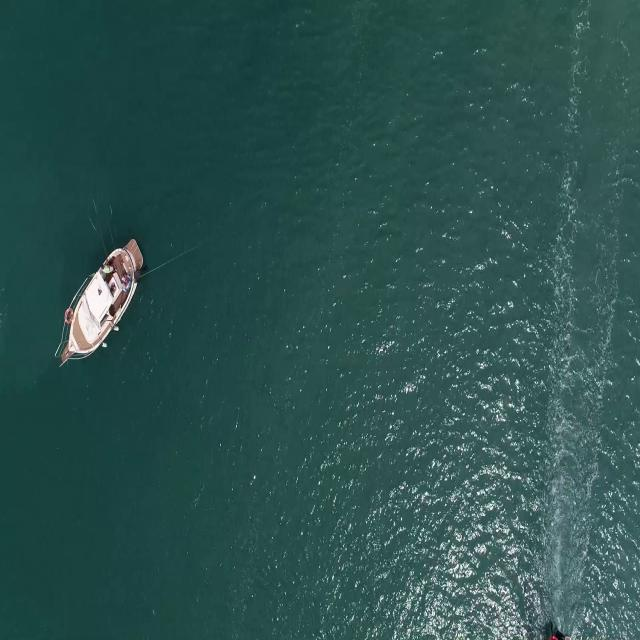boat: (60, 239, 146, 360)
life_buoy: (64, 303, 74, 327)
person: (100, 262, 117, 275), (122, 276, 133, 292)
